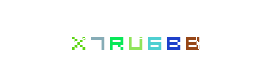6: (97, 0, 177, 80)
7: (76, 0, 156, 80)
B: (133, 0, 213, 80), (151, 0, 231, 80)
R: (90, 0, 170, 80)
U: (97, 0, 177, 80)
X: (38, 0, 118, 80)
